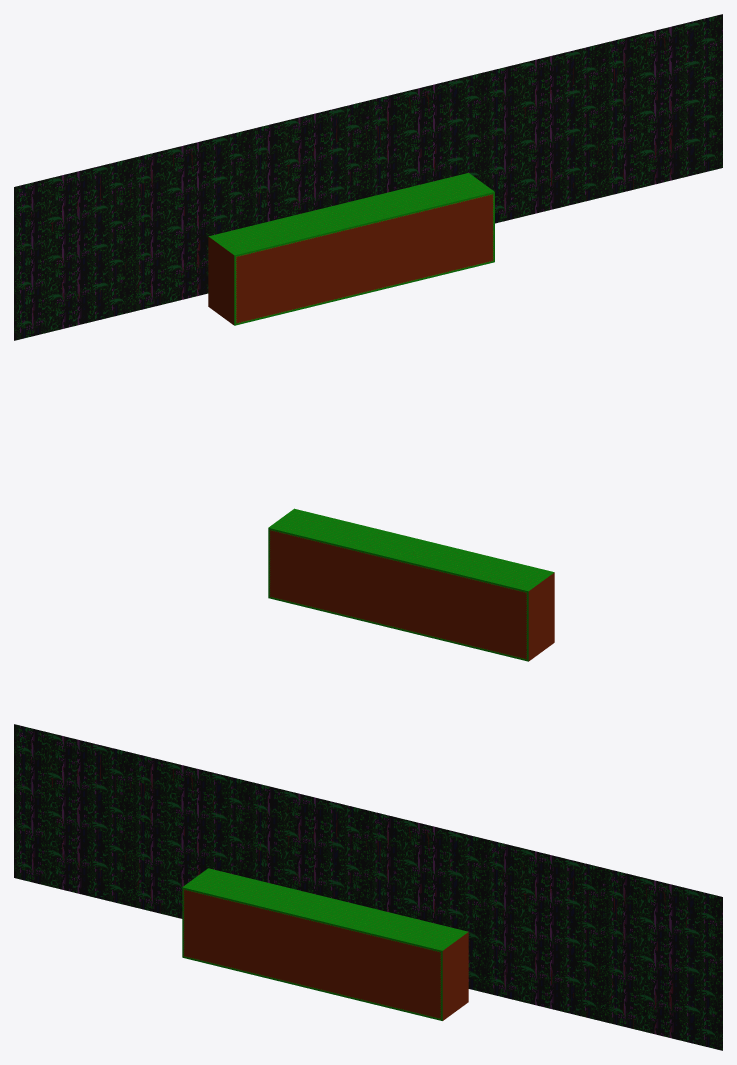
File: LunaFinal.glb
3 views of the same model, one above another, from view 1: azimuth 30°, elevation 25°; view 2: azimuth 150°, elevation 25°; view 3: azimuth 330°, elevation 25° (orthographic).
Visible parts, largest first — view 1: Setor_0, Setor_-1, Setor_1; view 2: Setor_0, Setor_-1; view 3: Setor_0, Setor_-1, Setor_1.
Part boxes in pixels (bbox=[...]): Setor_0: bbox=[250, 72, 494, 315]; Setor_-1: bbox=[14, 129, 276, 340]; Setor_1: bbox=[486, 14, 722, 223]; Setor_0: bbox=[268, 508, 512, 651]; Setor_-1: bbox=[486, 562, 554, 661]; Setor_0: bbox=[224, 782, 486, 1020]; Setor_-1: bbox=[14, 724, 250, 967]; Setor_1: bbox=[486, 839, 722, 1050].
Bounding box in the file's own units: 87.75 × 19.76 × 5.6.
Materials: 2 (2 with a texture image).
